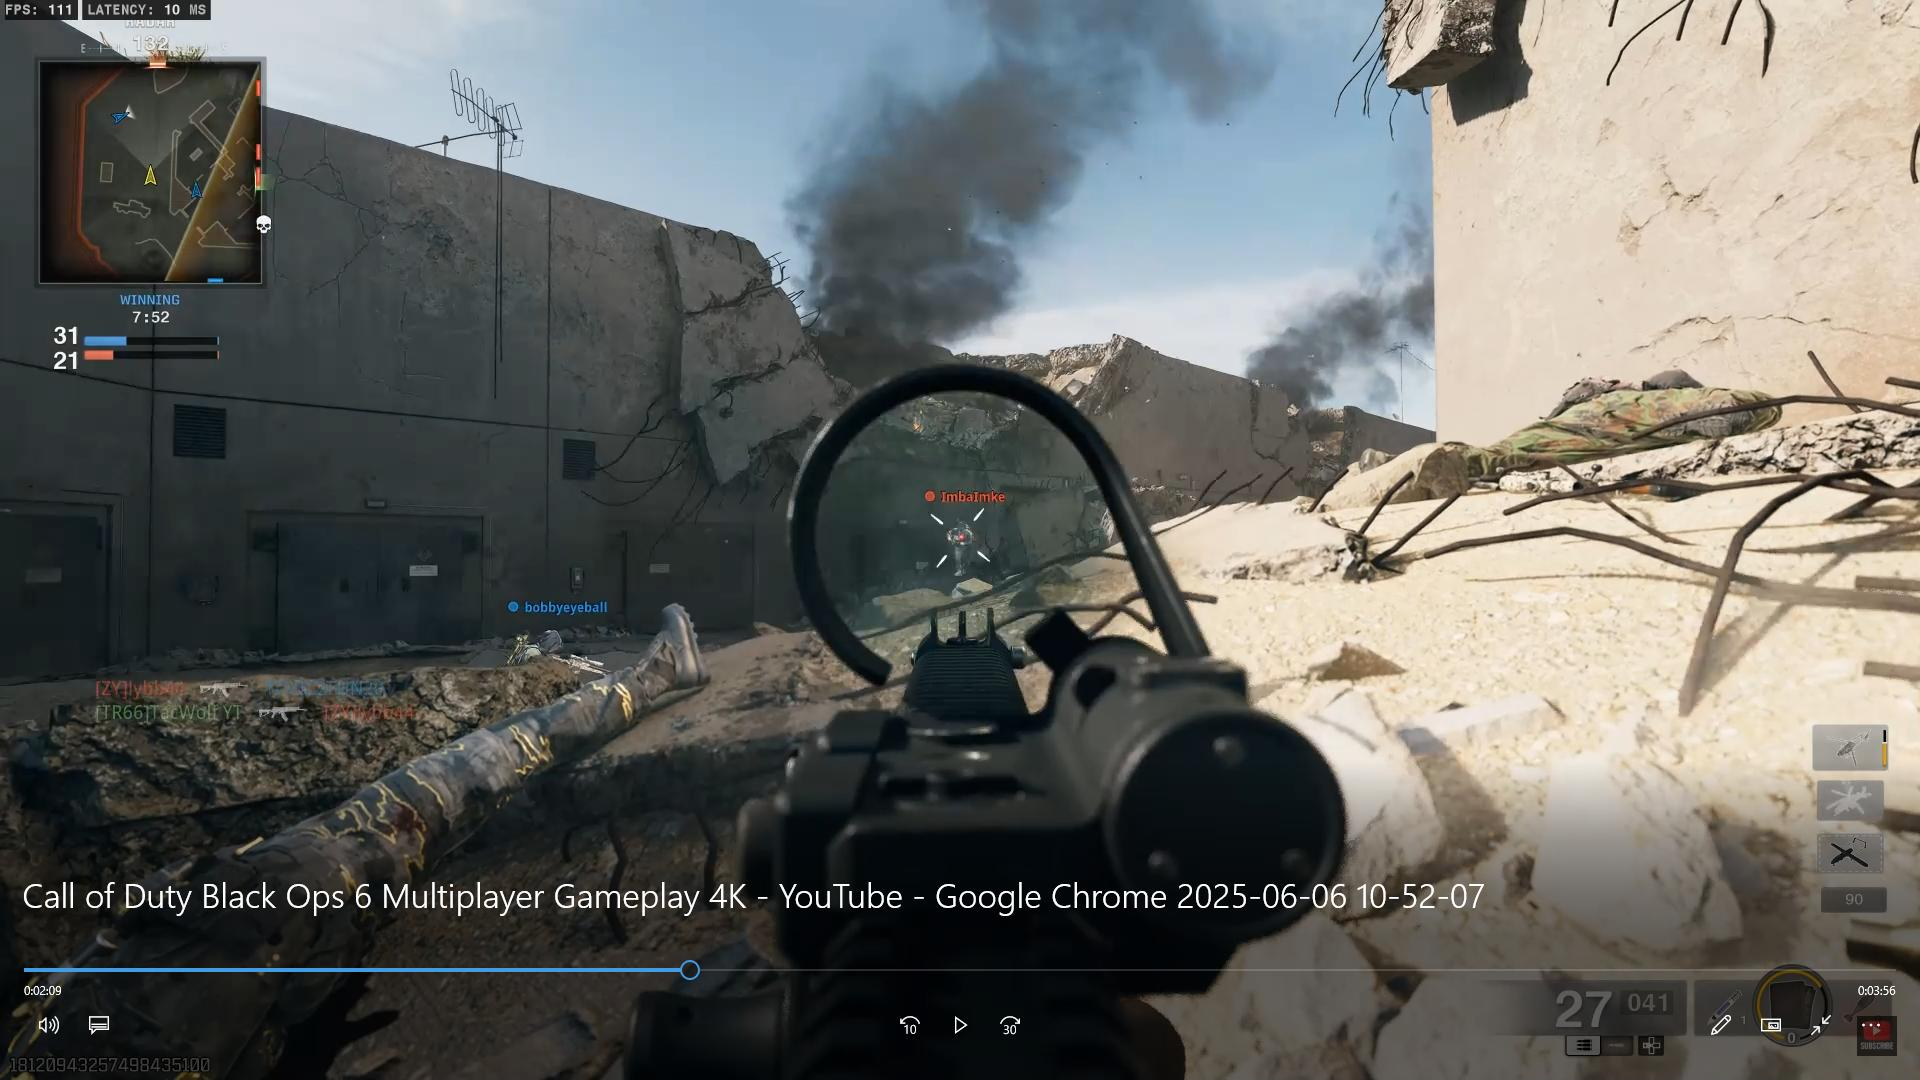Enemy: (915, 480, 1004, 588), (517, 620, 583, 662)
